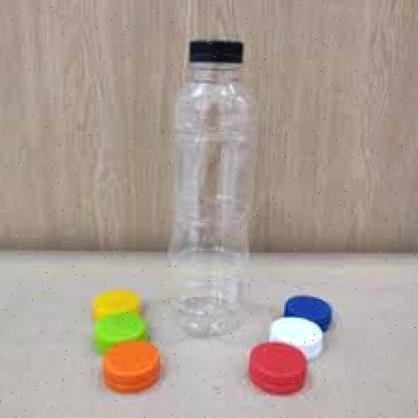bottle: (126, 23, 286, 347)
cap: (184, 36, 252, 67)
